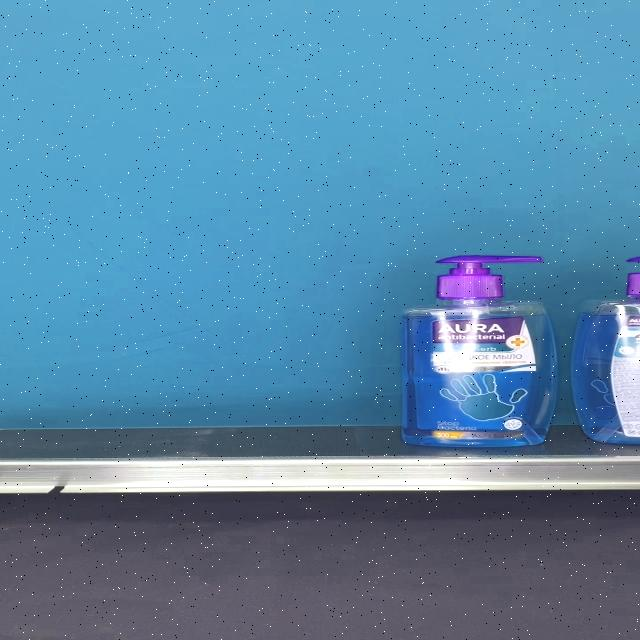Bottle: (399, 255, 560, 447)
Cap: (436, 256, 545, 300)
